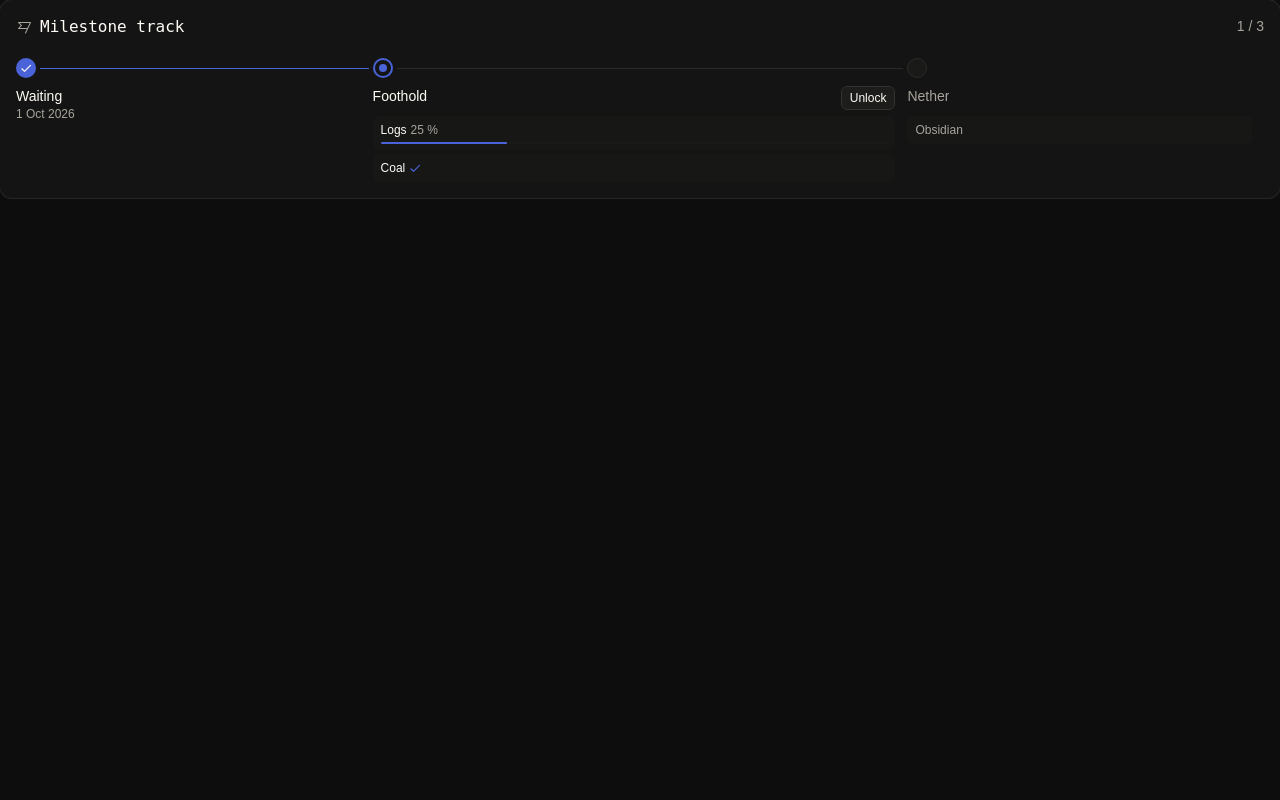
Test case: SmpActions › says so when nobody picked the row up, rather than that it failed
Click the button "Unlock".
click(868, 98)  # box 841,86 -> 896,110
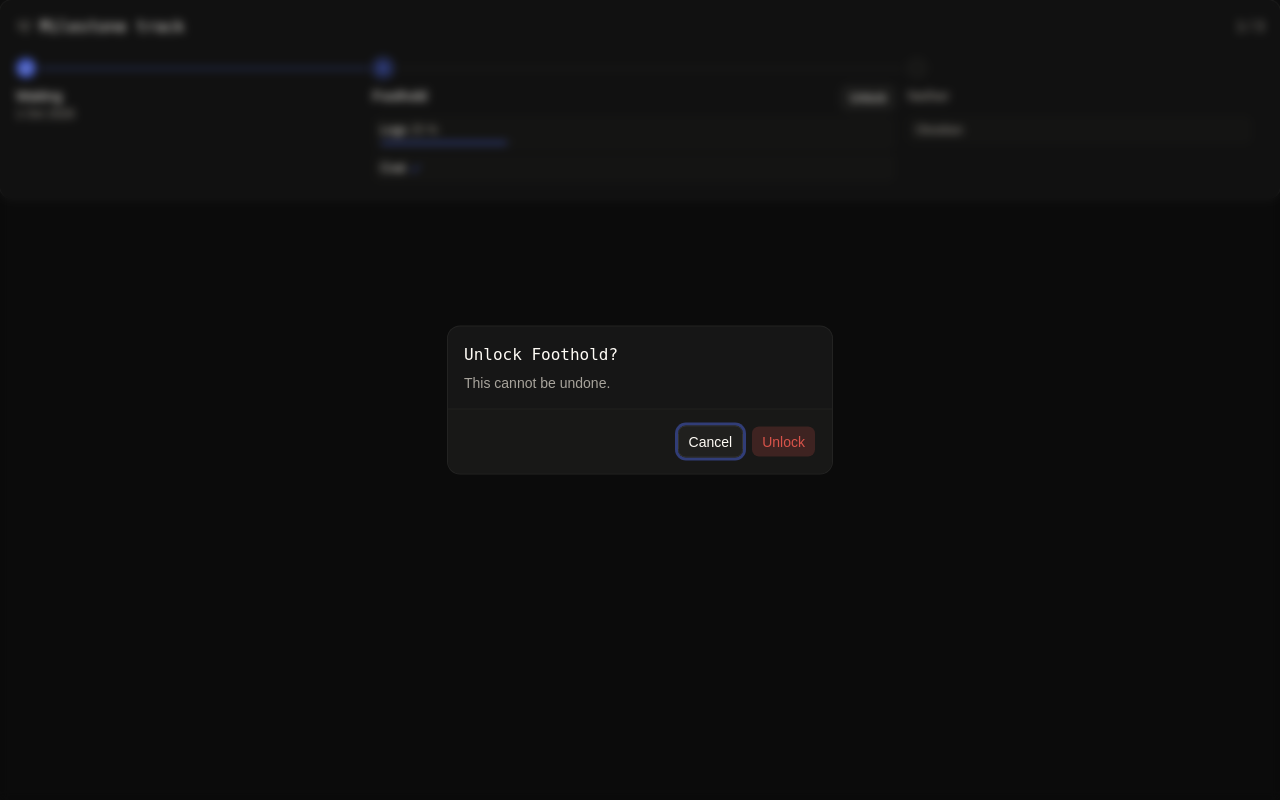
Click the button "Unlock".
click(784, 442)  # box 751,426 -> 816,458
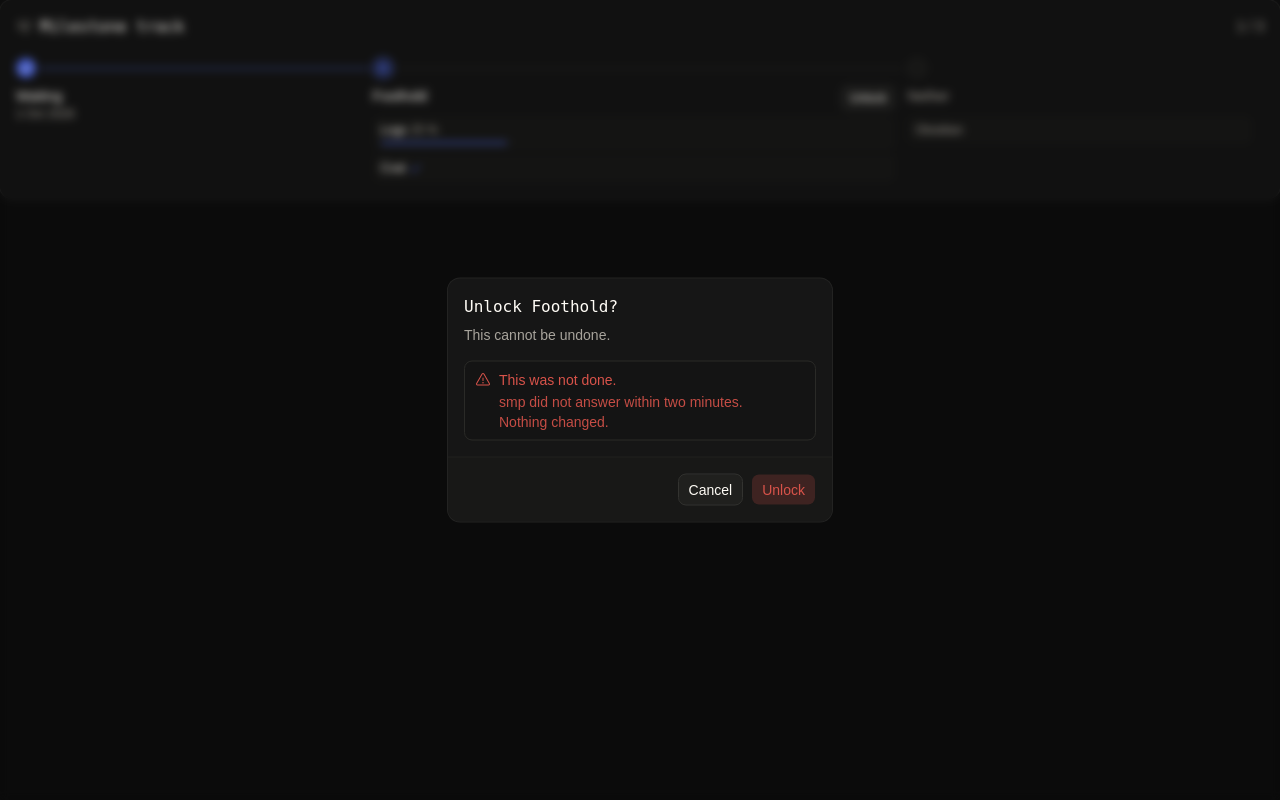
Expected: the text "smp did not answer within two minutes. Nothing changed." is shown, 499,394 -> 743,430
